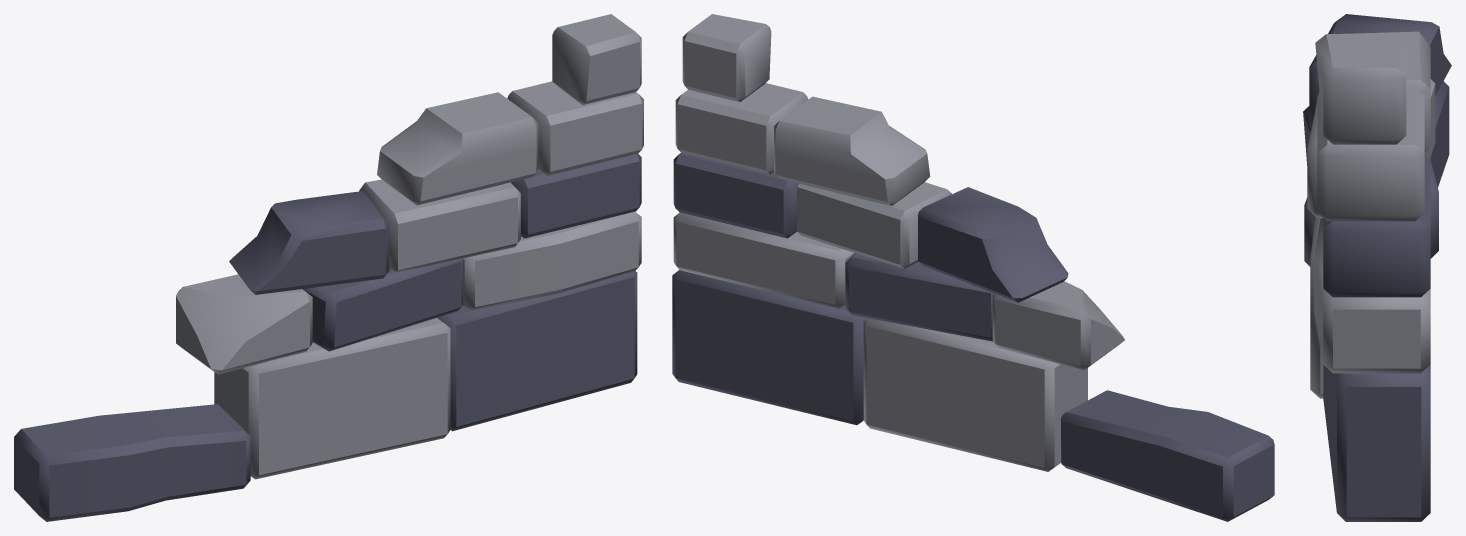
The model's file is muro_quebrado_1.fbx.
The picture shows the model from 3 angles, left to right: view 1: azimuth 30°, elevation 25°; view 2: azimuth 150°, elevation 25°; view 3: azimuth 270°, elevation 25°; orthographic projection. The views are drawn at different scales.
Parts seen in each view (by area): view 1: muro_quebrado_1; view 2: muro_quebrado_1; view 3: muro_quebrado_1.
Boxes of the visible parts, x1,y1,x2,y2 form: muro_quebrado_1: (14,14,643,521); muro_quebrado_1: (672,14,1274,521); muro_quebrado_1: (1303,14,1451,521).
Bounding box in the file's own units: 602 × 343 × 102.
